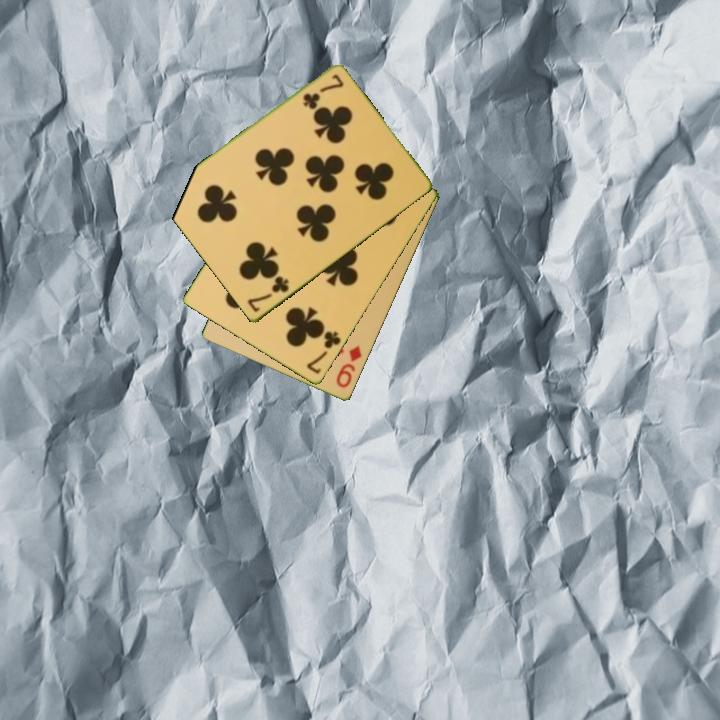7c: (244, 273, 292, 315), (303, 328, 344, 377), (299, 71, 346, 111)
9d: (332, 342, 365, 391)
